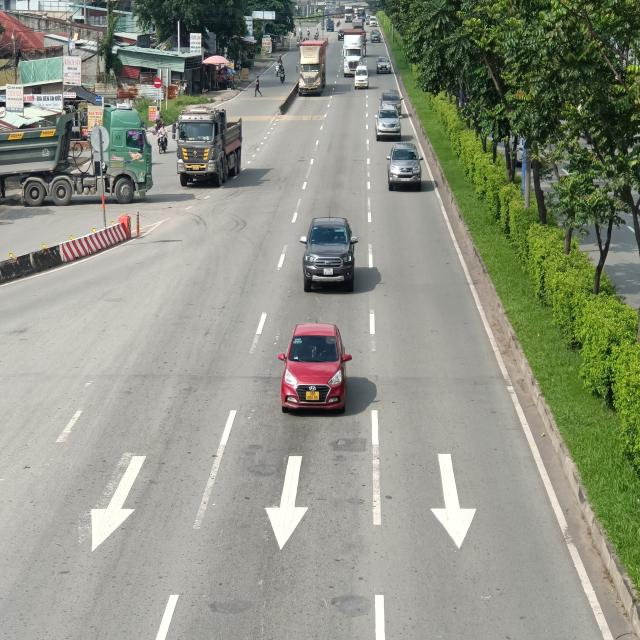car: (278, 320, 352, 417), (298, 217, 358, 288), (386, 141, 424, 191), (374, 105, 403, 140), (379, 88, 403, 114), (375, 56, 392, 74), (370, 31, 381, 42)
coach: (357, 7, 366, 20)
container: (0, 103, 153, 200), (172, 104, 243, 189), (296, 37, 328, 96), (343, 28, 365, 76), (345, 5, 353, 23)
van: (354, 66, 370, 88)
